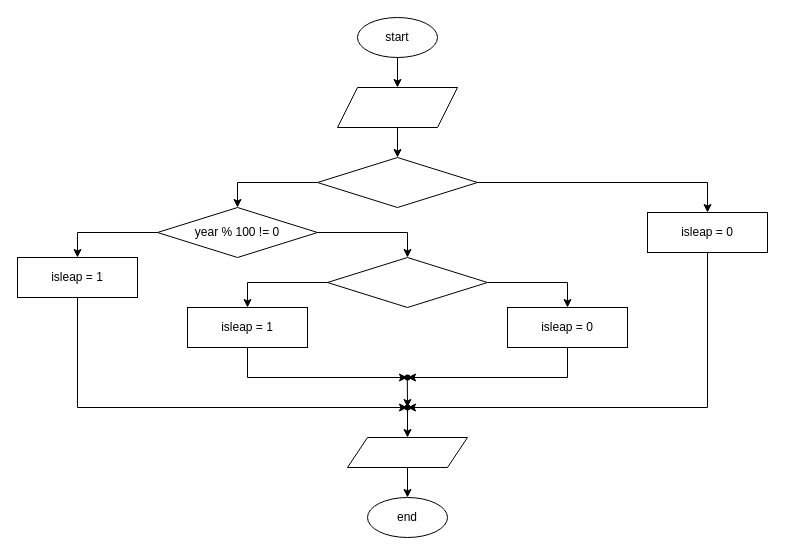
The diagram is 785 pixels wide and 555 high, and some of its shapes have lost their labels. Each missing label, with the box of its shape:
isleap: (346, 436, 468, 468)
year: (336, 86, 458, 128)
year % 4 == 0: (316, 156, 478, 208)
year % 400 == 0: (326, 256, 488, 308)
